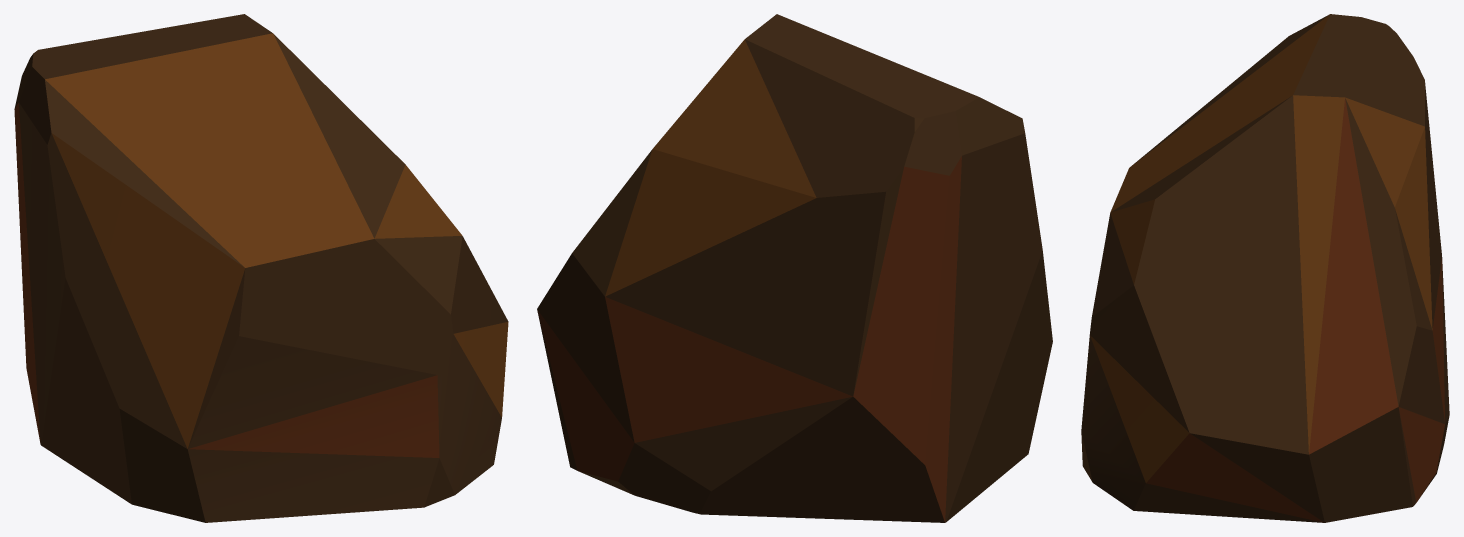
The model's file is stone_01.obj.
The picture shows the model from 3 angles, left to right: view 1: azimuth 30°, elevation 25°; view 2: azimuth 150°, elevation 25°; view 3: azimuth 270°, elevation 25°; orthographic projection. The views are drawn at different scales.
Visible parts, largest first — view 1: stone_01 group1; view 2: stone_01 group1; view 3: stone_01 group1.
Part boxes in pixels (x1,y1,x2,y2): stone_01 group1: (14,14,508,522); stone_01 group1: (537,14,1052,522); stone_01 group1: (1081,14,1449,522).
Size of the model in its own units: 0.8223 by 0.7554 by 0.7041.
